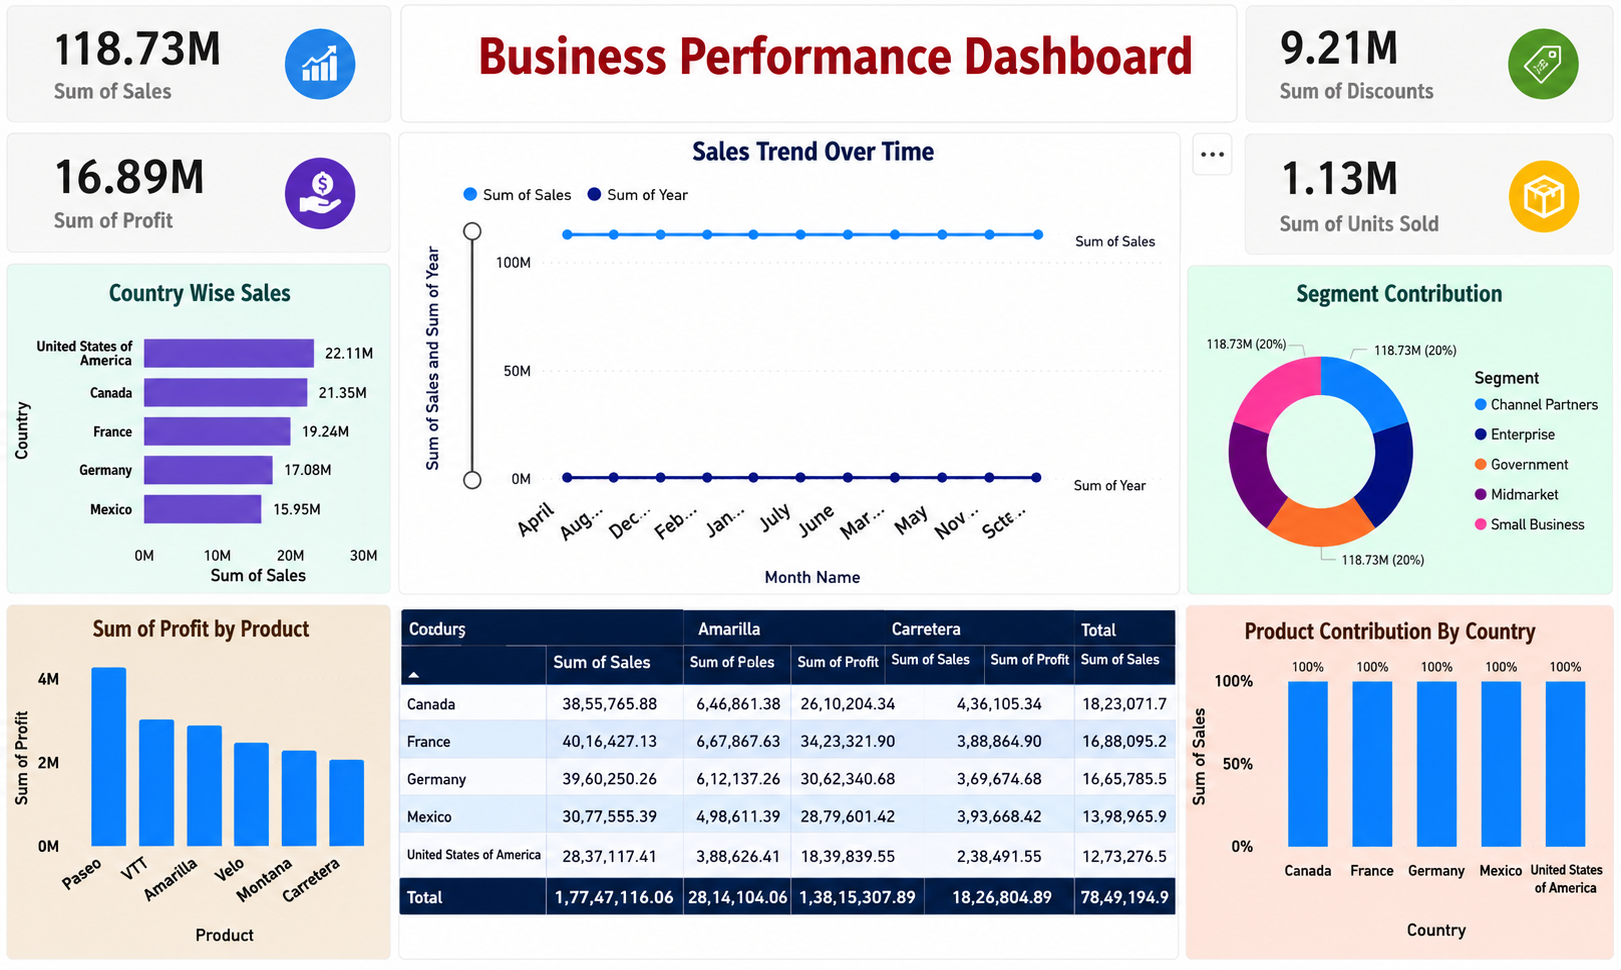

This screenshot's page, from the dashboard's own definition file:
{"tool":"powerbi","page":{"name":"Page 1","canvas":[1280,720],"ordinal":0},"visuals":[{"type":"card","fields":{"Values":["Sum(Sheet1. Sales)"]},"box":[0,0,256.6,96.1],"z":0},{"type":"card","fields":{"Values":["Sum(Sheet1.Profit)"]},"box":[0,96.1,337.6,104.3],"z":1000},{"type":"card","fields":{"Values":["Sum(Sheet1.Units Sold)"]},"box":[918,96.1,362.3,113.9],"z":2000},{"type":"card","fields":{"Values":["Sum(Sheet1.Discounts)"]},"box":[989.4,0,290.9,96.1],"z":3000},{"type":"textbox","box":[256.6,0,732.8,96.1],"z":4000},{"type":"clusteredBarChart","title":"Country Wise Sales","fields":{"Category":["Sheet1.Country"],"Y":["Sum(Sheet1. Sales)"]},"box":[0,200.3,337.6,258],"z":5000},{"type":"clusteredColumnChart","fields":{"Category":["Sheet1.Product"],"Y":["Sum(Sheet1.Profit)"]},"box":[0,458.3,337.6,262.1],"z":6000},{"type":"lineChart","title":"Sales Trend Over Time","fields":{"Category":["Table2.Month Name"],"Y":["Sum(Sheet1. Sales)","Sum(Sheet1.Year)"]},"box":[337.6,96.1,580.4,362.3],"z":7000},{"type":"donutChart","title":"Segment Contribution","fields":{"Category":["Sheet1.Segment"],"Y":["Sum(Table2. Sales)"]},"box":[918,209.9,362.3,278.6],"z":8000},{"type":"hundredPercentStackedColumnChart","title":"Product Contribution By Country","fields":{"Category":["Table2.Country"],"Y":["Sum(Sheet1. Sales)"]},"box":[918,458.3,362.3,262.1],"z":9000},{"type":"pivotTable","fields":{"Rows":["Sheet1.Country"],"Columns":["Sheet1.Product"],"Values":["Sum(Sheet1. Sales)","Sum(Sheet1.Profit)"]},"box":[337.6,458.3,580.4,262.1],"z":10000}]}

Visuals, with their boxes on the page's 1280x720 design canvas (x1, y1, x2, y2). These are canvas units, not pixel positions in the 1621x970 screenshot, which may show the page scaled, cropped or inside an application window:
card - Sum(Sheet1. Sales): [x1=0, y1=0, x2=257, y2=96]
card - Sum(Sheet1.Profit): [x1=0, y1=96, x2=338, y2=200]
card - Sum(Sheet1.Units Sold): [x1=918, y1=96, x2=1280, y2=210]
card - Sum(Sheet1.Discounts): [x1=989, y1=0, x2=1280, y2=96]
textbox: [x1=257, y1=0, x2=989, y2=96]
"Country Wise Sales" clusteredBarChart: [x1=0, y1=200, x2=338, y2=458]
clusteredColumnChart - Sheet1.Product x Sum(Sheet1.Profit): [x1=0, y1=458, x2=338, y2=720]
"Sales Trend Over Time" lineChart: [x1=338, y1=96, x2=918, y2=458]
"Segment Contribution" donutChart: [x1=918, y1=210, x2=1280, y2=488]
"Product Contribution By Country" hundredPercentStackedColumnChart: [x1=918, y1=458, x2=1280, y2=720]
pivotTable - Sheet1.Country x Sheet1.Product: [x1=338, y1=458, x2=918, y2=720]
